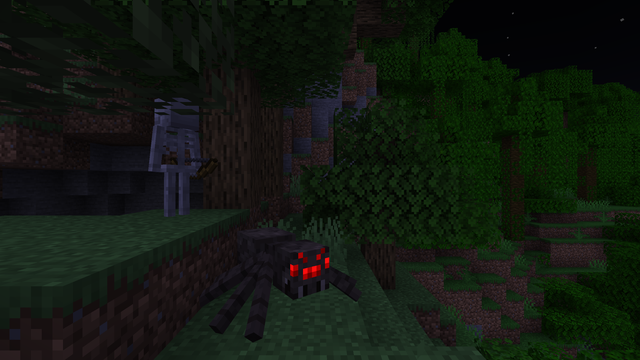araignees: (209, 224, 337, 328)
squelettes: (148, 126, 201, 217)
